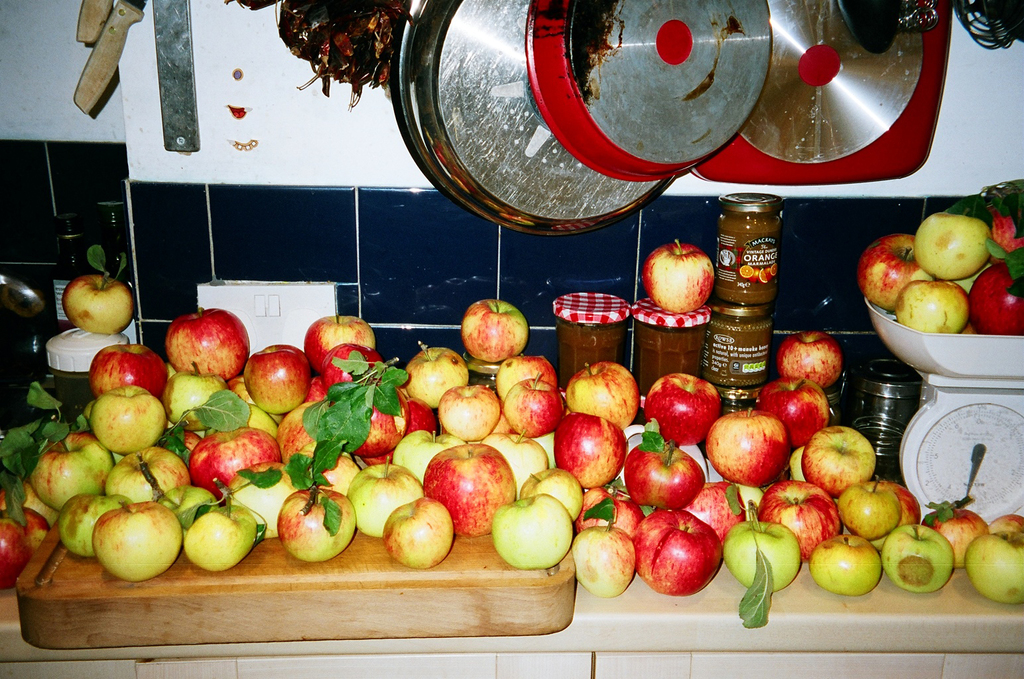Apple: (0, 295, 1023, 602), (858, 188, 1023, 330), (157, 309, 241, 391), (642, 240, 717, 310), (62, 277, 133, 334)
